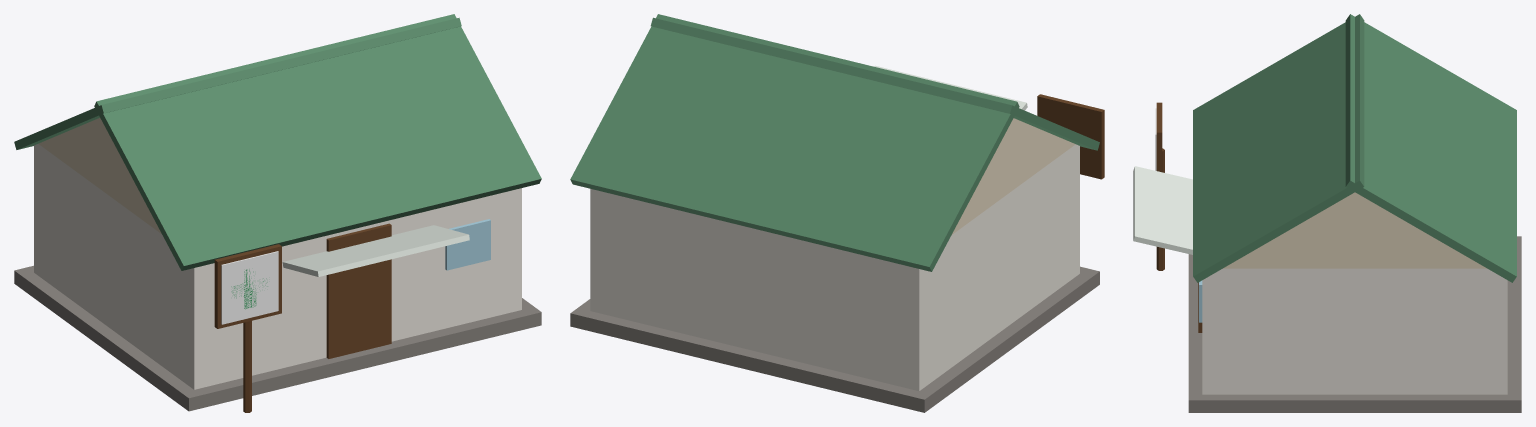
Rendered from CC_CitizenClinic.fbx.
3 renders of one model, left to right at view 1: azimuth 30°, elevation 25°; view 2: azimuth 150°, elevation 25°; view 3: azimuth 270°, elevation 25°, orthographic. The views are drawn at different scales.
Parts seen in each view (by area): view 1: CitizenClinic_Body; view 2: CitizenClinic_Body; view 3: CitizenClinic_Body.
Part boxes in pixels (box(x1,y1,x2,y2)): CitizenClinic_Body: box(14, 14, 541, 412); CitizenClinic_Body: box(570, 14, 1104, 412); CitizenClinic_Body: box(1133, 14, 1521, 412).
Size of the model in its own units: 2.84 by 1.86 by 2.8.
